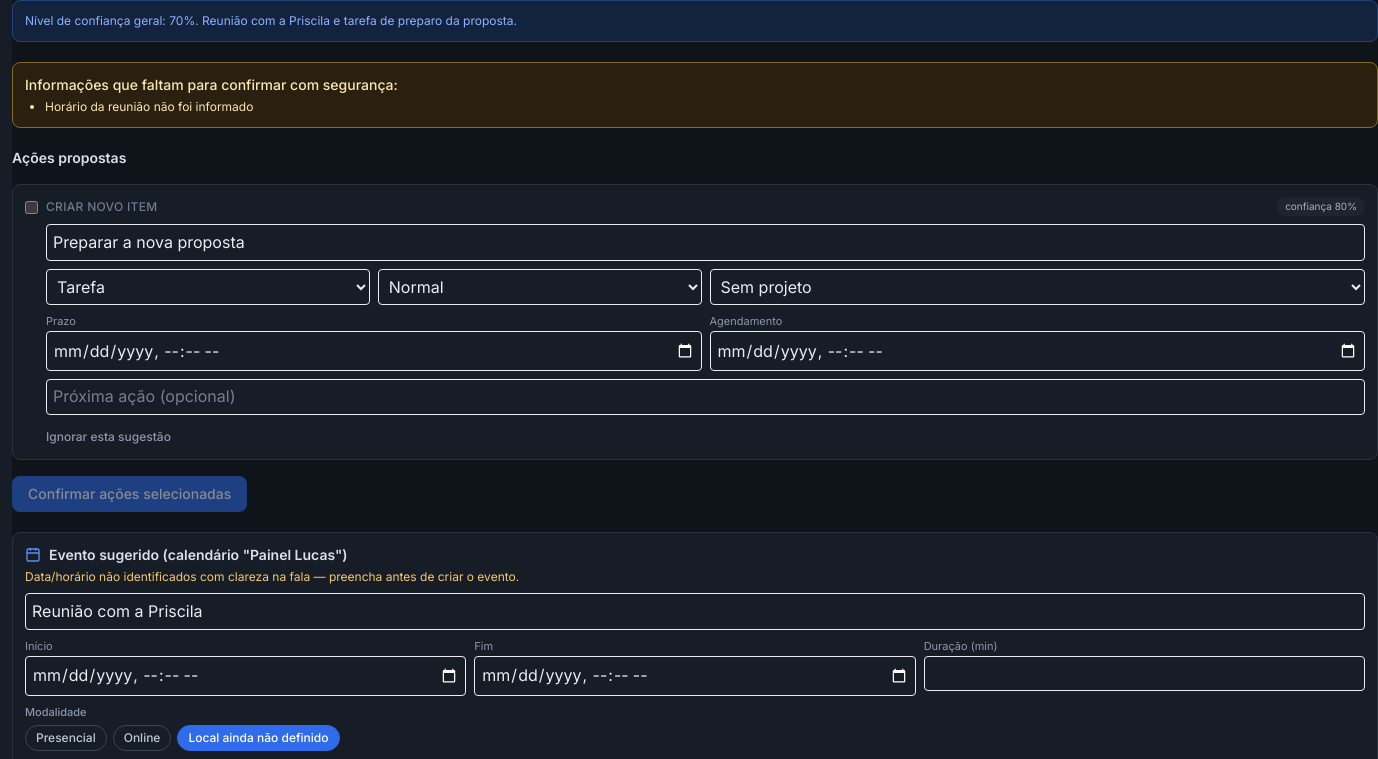
Test: AudioCaptureReview — validação de intervalo do evento › alterar o início preserva uma duração manual válida já definida
The width and height of the screenshot is (1378, 759).
Type "2026-08-05T10:00" into the field labelled "Início" at (246, 676), box [25,656,466,696]
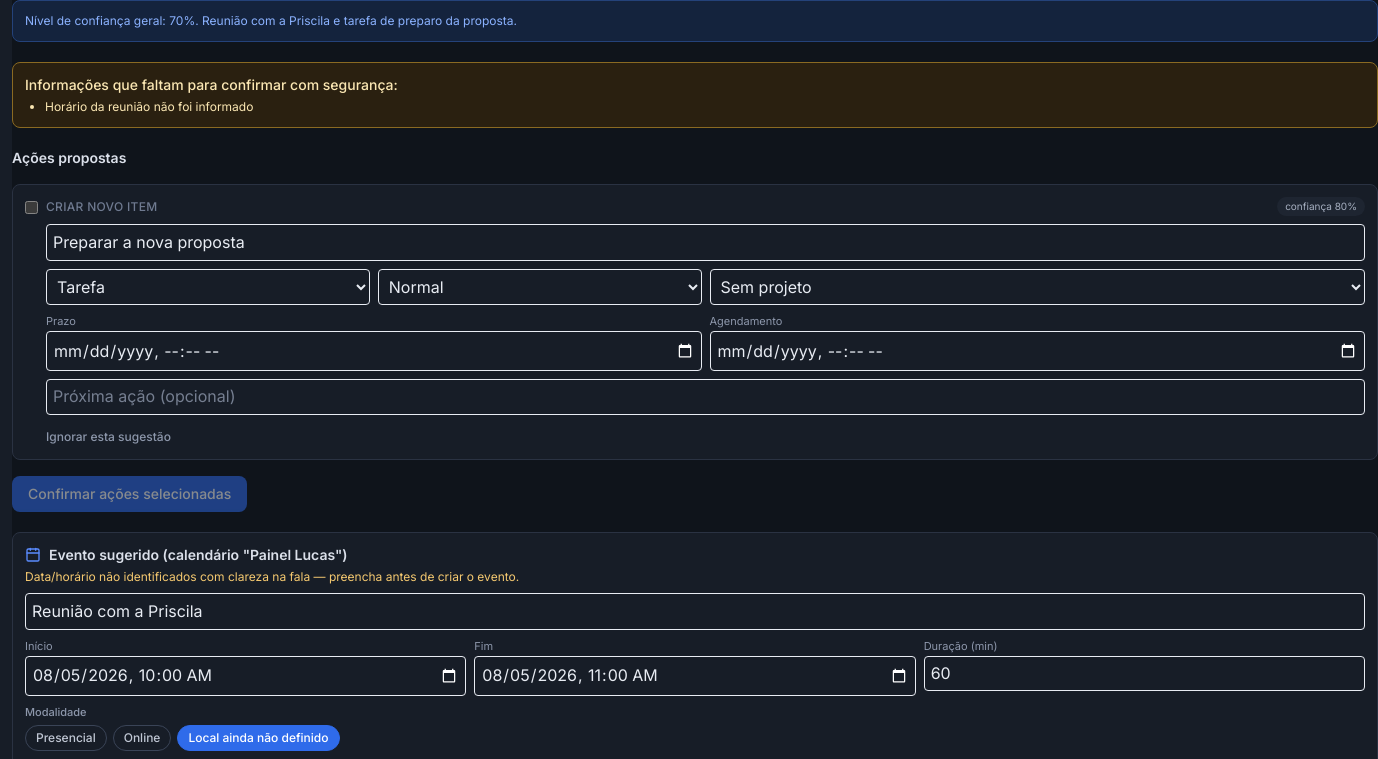
Usuário define manualmente 90min de duração.
Replace the text in the field labelled "Fim" with "2026-08-05T11:30" at (695, 676), box [474,656,916,696]
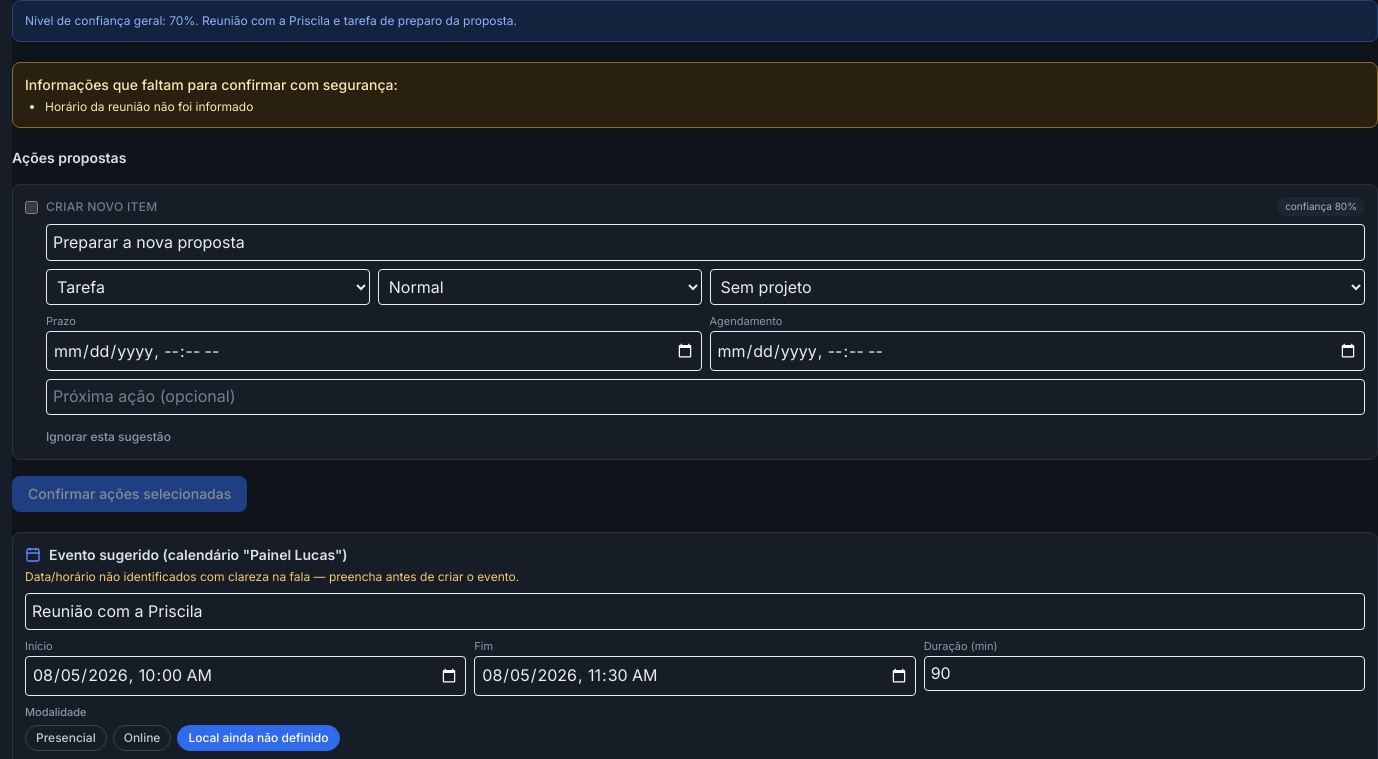
Now the number field named "Duração em minutos" holds "90", box [924,656,1365,691]
Replace the text in the field labelled "Início" with "2026-08-05T14:00" at (246, 676), box [25,656,466,696]
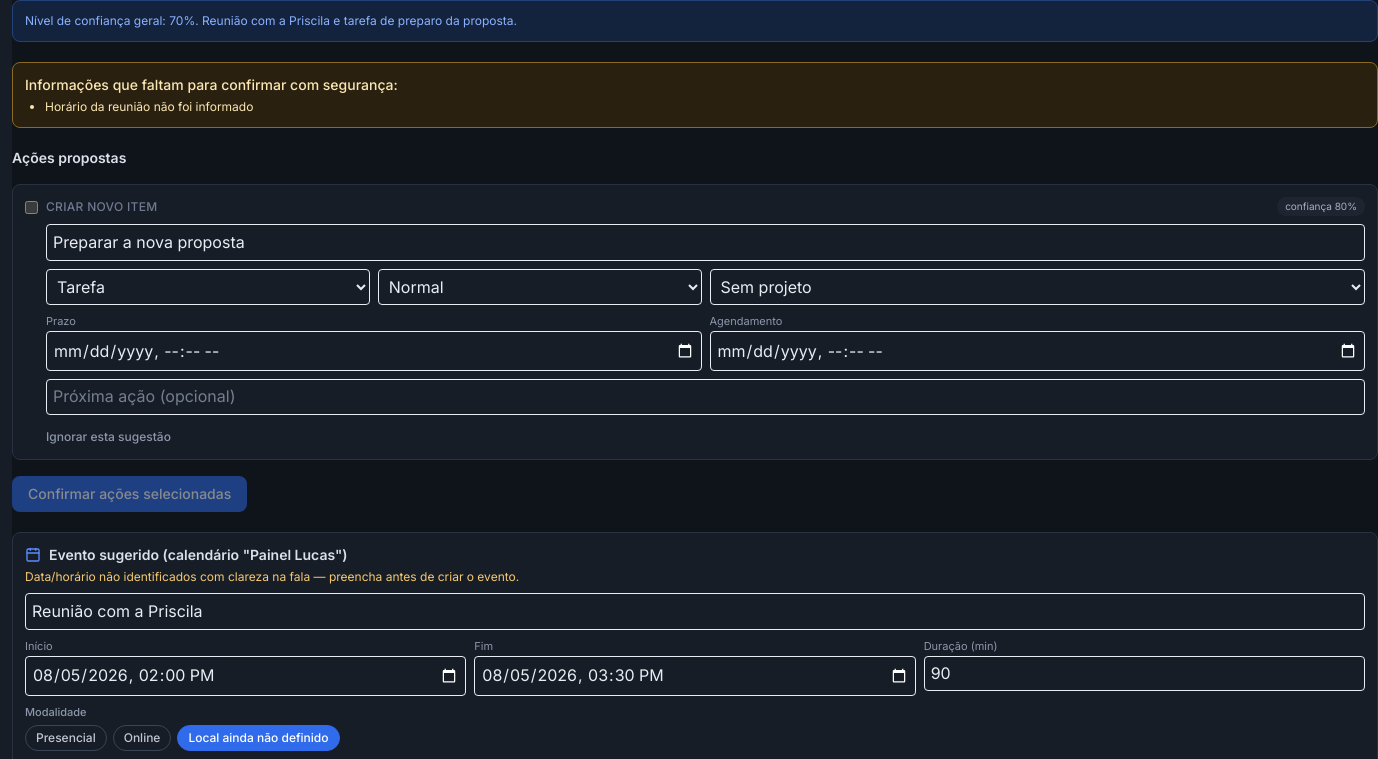
Now the number field named "Duração em minutos" holds "90", box [924,656,1365,691]
Now the field labelled "Fim" holds "2026-08-05T15:30", box [474,656,916,696]
